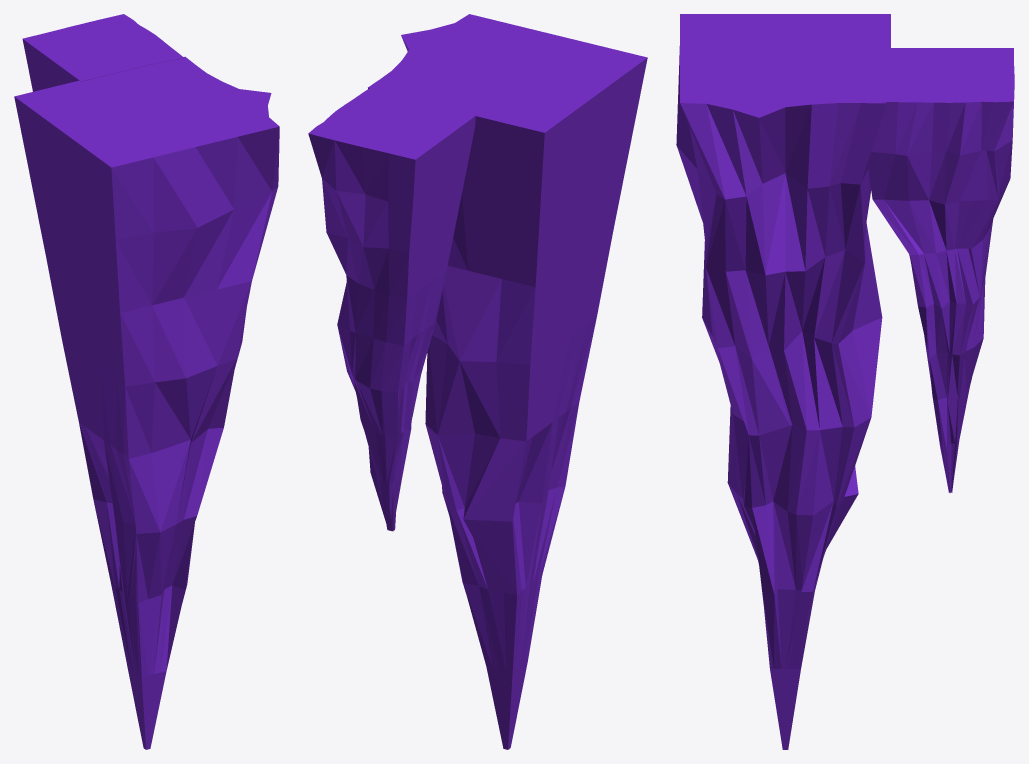
File: stalag.fbx
3 views of the same model, side by side, from view 1: azimuth 30°, elevation 25°; view 2: azimuth 150°, elevation 25°; view 3: azimuth 270°, elevation 25° (orthographic). The views are drawn at different scales.
Visible parts, largest first — view 1: Cube; view 2: Cube; view 3: Cube.
Part boxes in pixels (x1,y1,x2,y2): Cube: [14, 14, 279, 749]; Cube: [308, 14, 647, 749]; Cube: [676, 14, 1014, 749].
Bounding box in the file's own units: 3.22 × 9.97 × 4.42.
